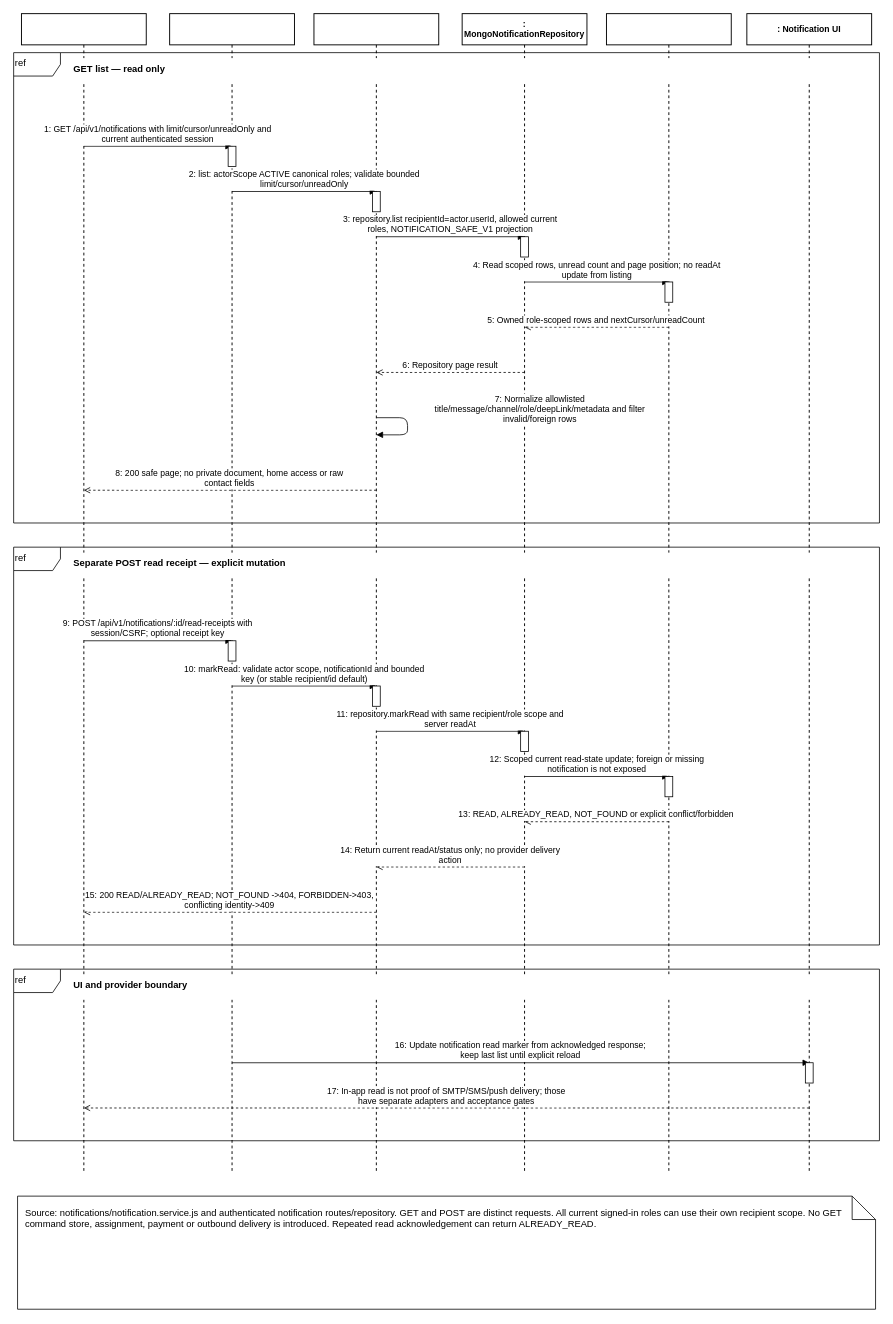
Some shapes in this 893 by 1324 pixel diagram are drawn without their labels. The centre of each missing label's shape, as x and y in pixels:
: Notification collection: point (668, 593)
: NotificationController: point (232, 593)
: NotificationService: point (376, 593)
Signed-in user (canonical role): point (83, 593)
